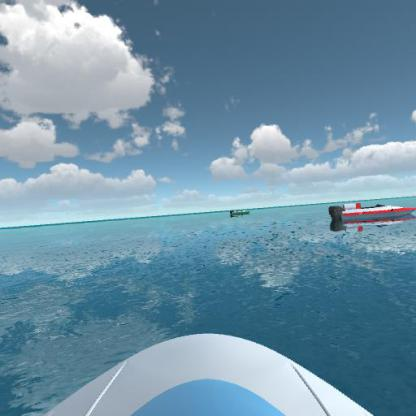usv0: (229, 206, 252, 219)
usv3: (326, 200, 415, 231)
